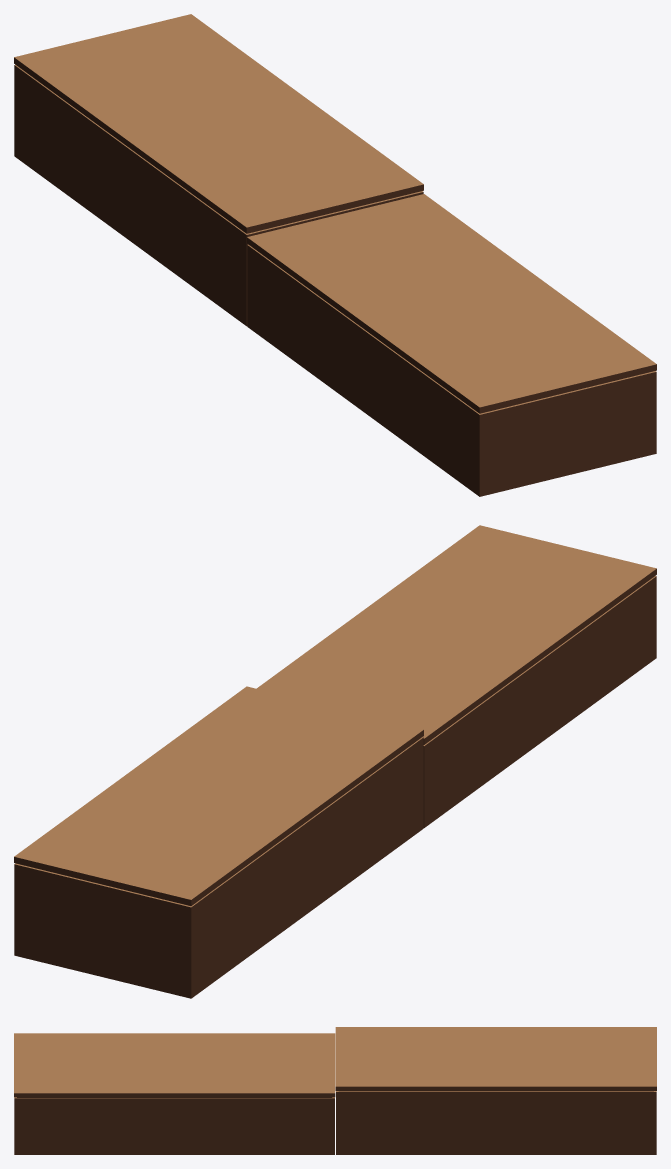
File: sillas_borde_rio.glb
3 renders of one model, top to bottom at view 1: azimuth 30°, elevation 25°; view 2: azimuth 150°, elevation 25°; view 3: azimuth 270°, elevation 25°, orthographic. The views are drawn at different scales.
Parts seen in each view (by area): view 1: Plano.003, Plano.002; view 2: Plano.002, Plano.003; view 3: Plano.002, Plano.003.
Part boxes in pixels (x1=…): Plano.003: x1=247, y1=194, x2=656, y2=496; Plano.002: x1=14, y1=14, x2=423, y2=326; Plano.002: x1=14, y1=686, x2=423, y2=998; Plano.003: x1=256, y1=525, x2=656, y2=827; Plano.002: x1=335, y1=1027, x2=656, y2=1154; Plano.003: x1=14, y1=1033, x2=335, y2=1154.
Size of the model in its own units: 2.69 by 1.44 by 12.25.
